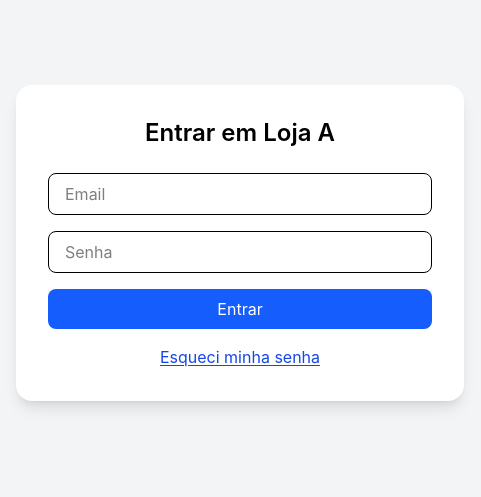
it: LoginPage › REQ-WEB-RECOVERY-002 requires company and email before recovery
Click the button "Esqueci minha senha": (240, 357) top-left (48, 345), bottom-right (432, 369)
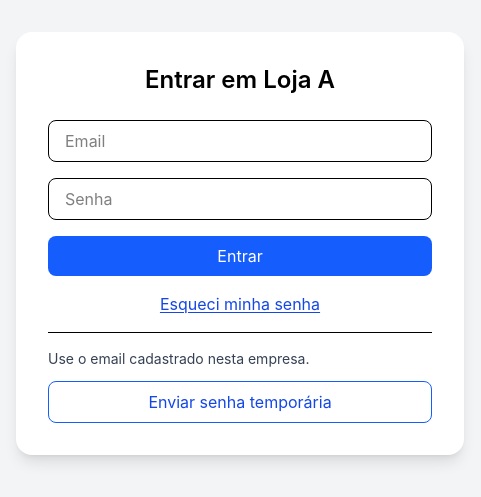
Click the button "Enviar senha temporária": (240, 402) top-left (48, 380), bottom-right (432, 422)
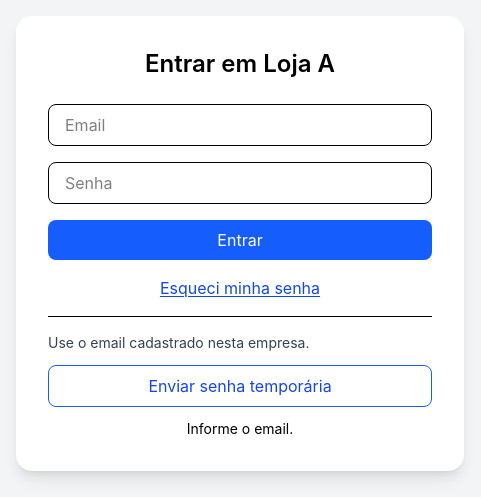
Check: the message shows "Informe o email", box top-left (187, 420), bottom-right (293, 436)
